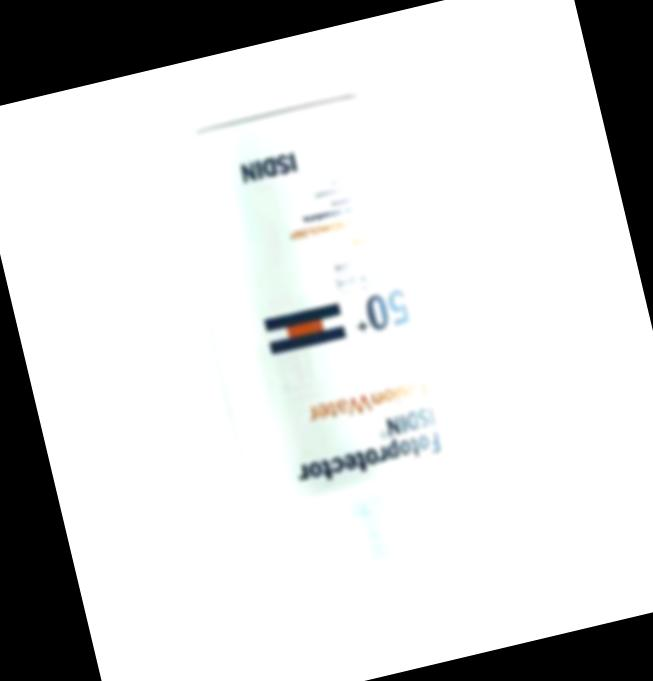cosmetic: (172, 85, 495, 634)
